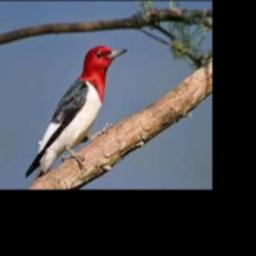Woodpecker: (25, 45, 127, 184)
